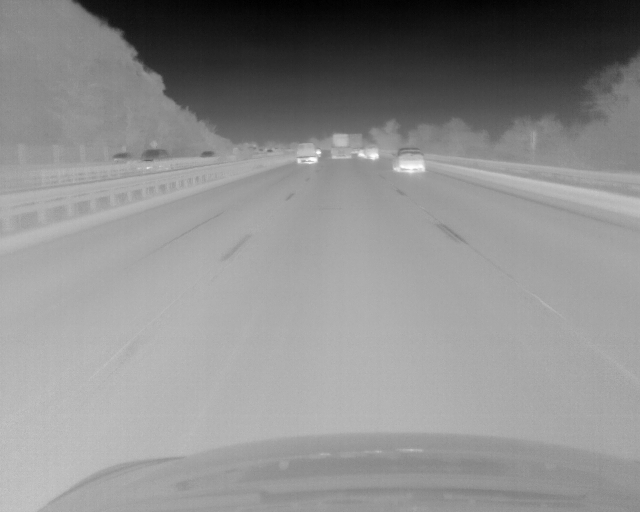car: (391, 148, 425, 172), (331, 134, 351, 159), (295, 143, 317, 164), (138, 149, 168, 161), (364, 145, 377, 159), (111, 153, 130, 162), (199, 151, 213, 157), (316, 147, 321, 157)
